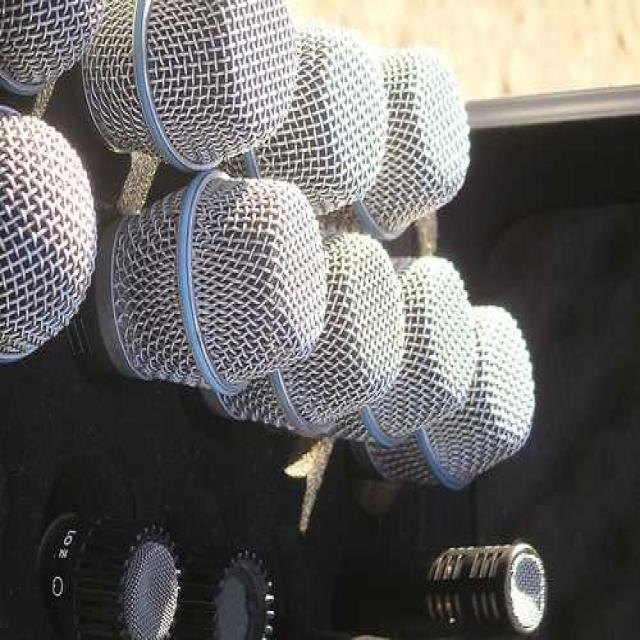microphone: (89, 172, 331, 408), (359, 260, 537, 489), (106, 3, 300, 178), (252, 234, 403, 443), (38, 511, 272, 636), (239, 30, 388, 219), (346, 47, 468, 243), (2, 114, 97, 358), (79, 5, 166, 164), (427, 540, 549, 636), (0, 1, 111, 101), (190, 534, 284, 635)
